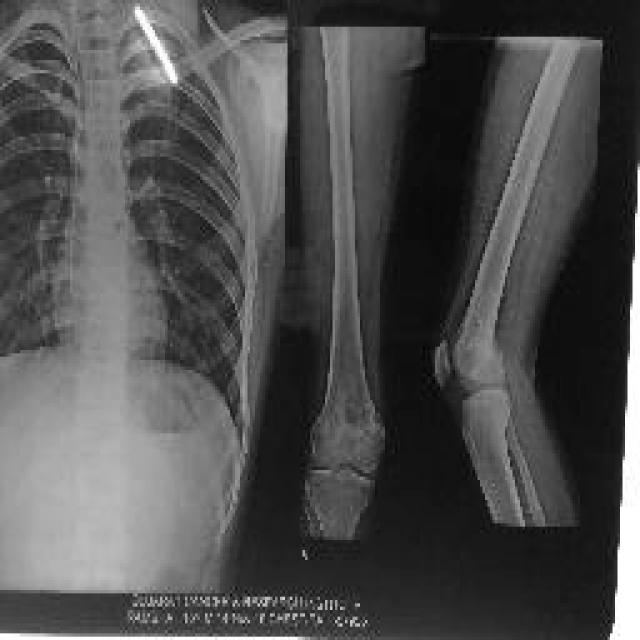bone-cancer: (331, 397, 385, 474)
